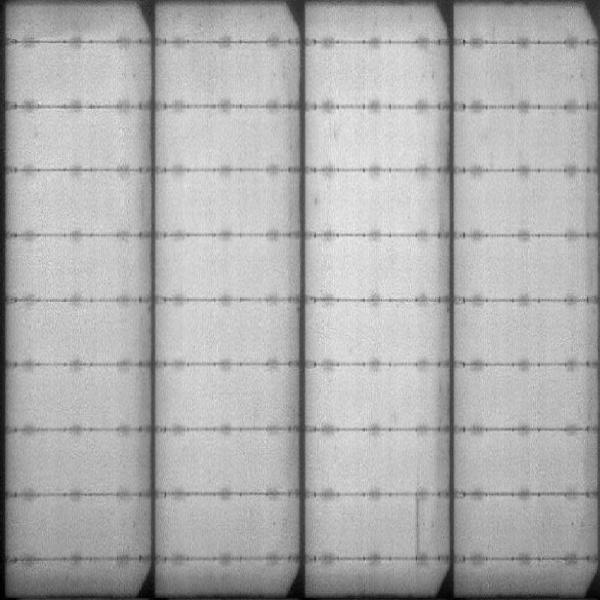scratch: (410, 491, 423, 563)
